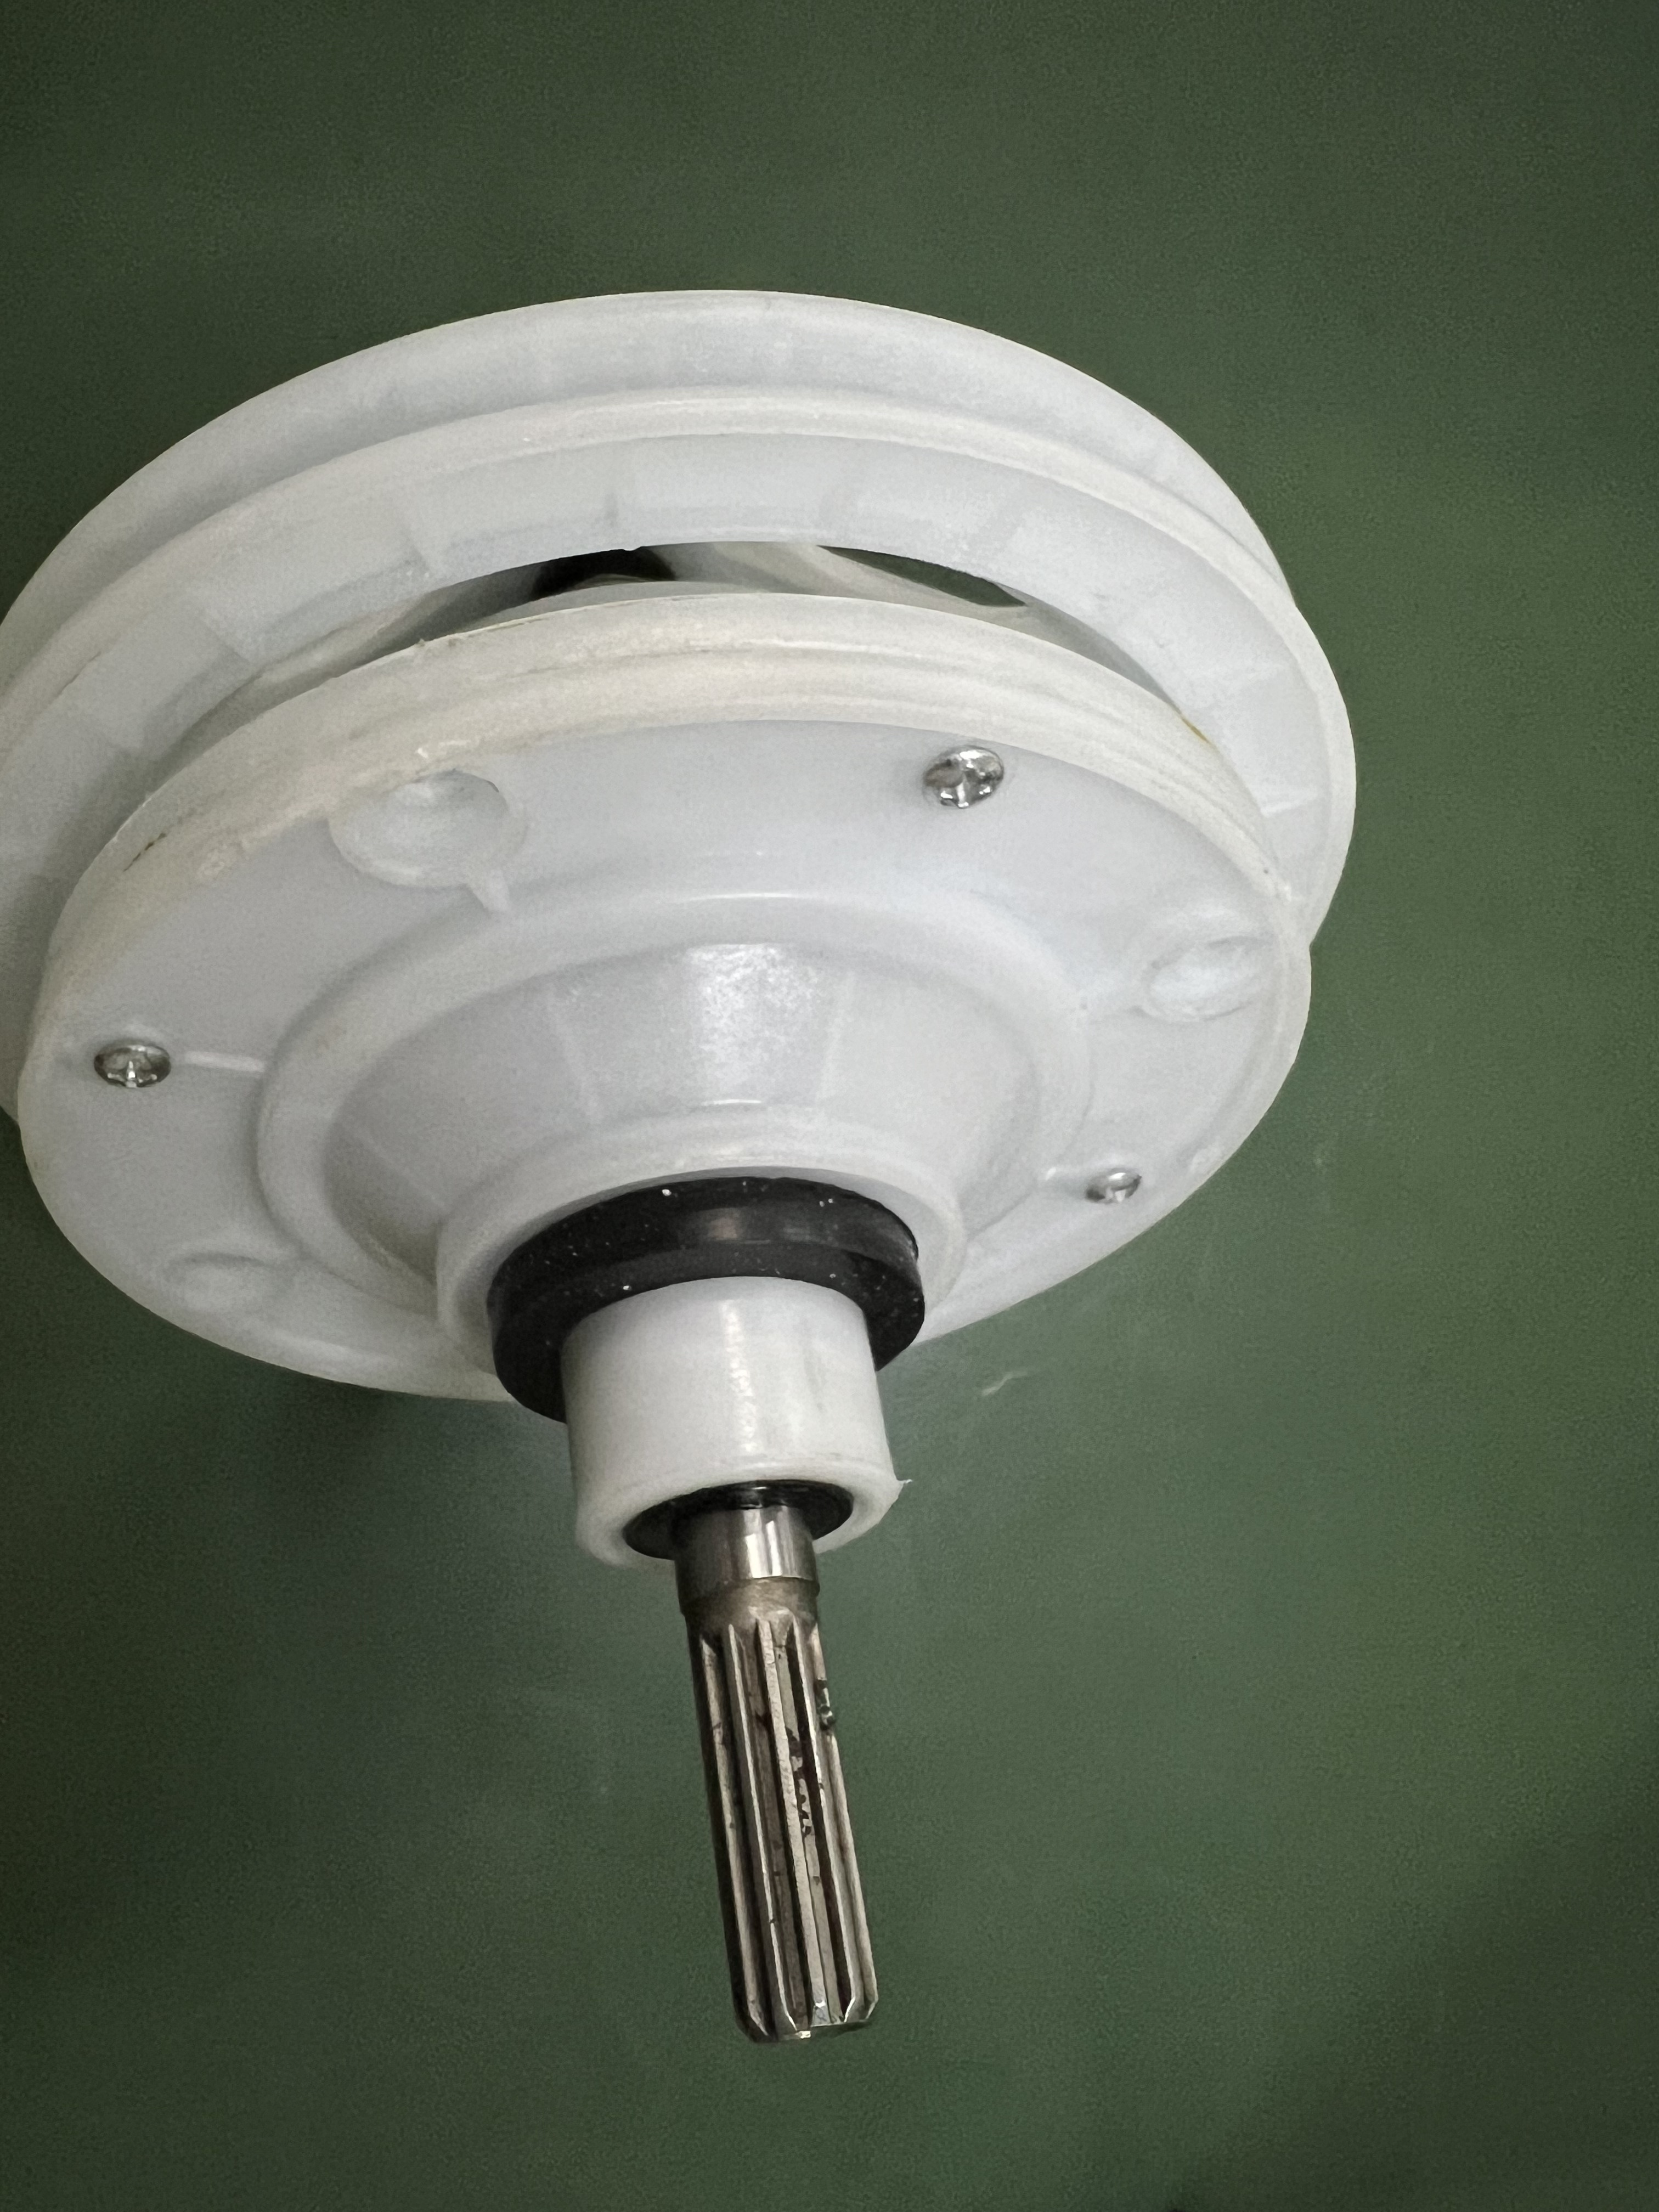gear_box_circle: (19, 289, 1368, 2045)
